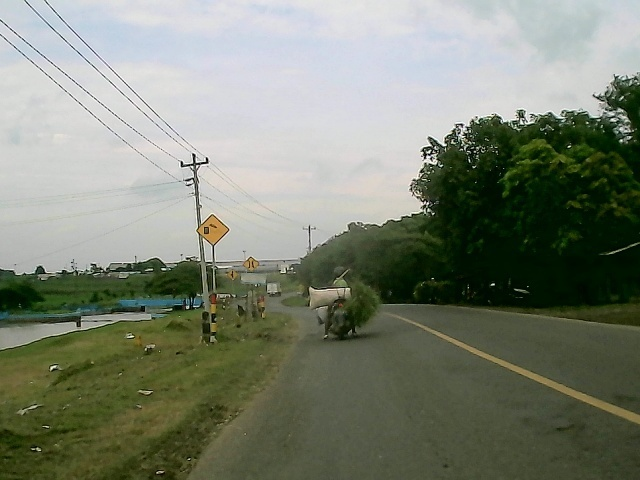Jembatan: (240, 254, 262, 272)
Peringatan tepi air: (192, 213, 231, 247)
